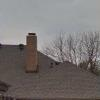Chimney: (21, 27, 45, 76)
